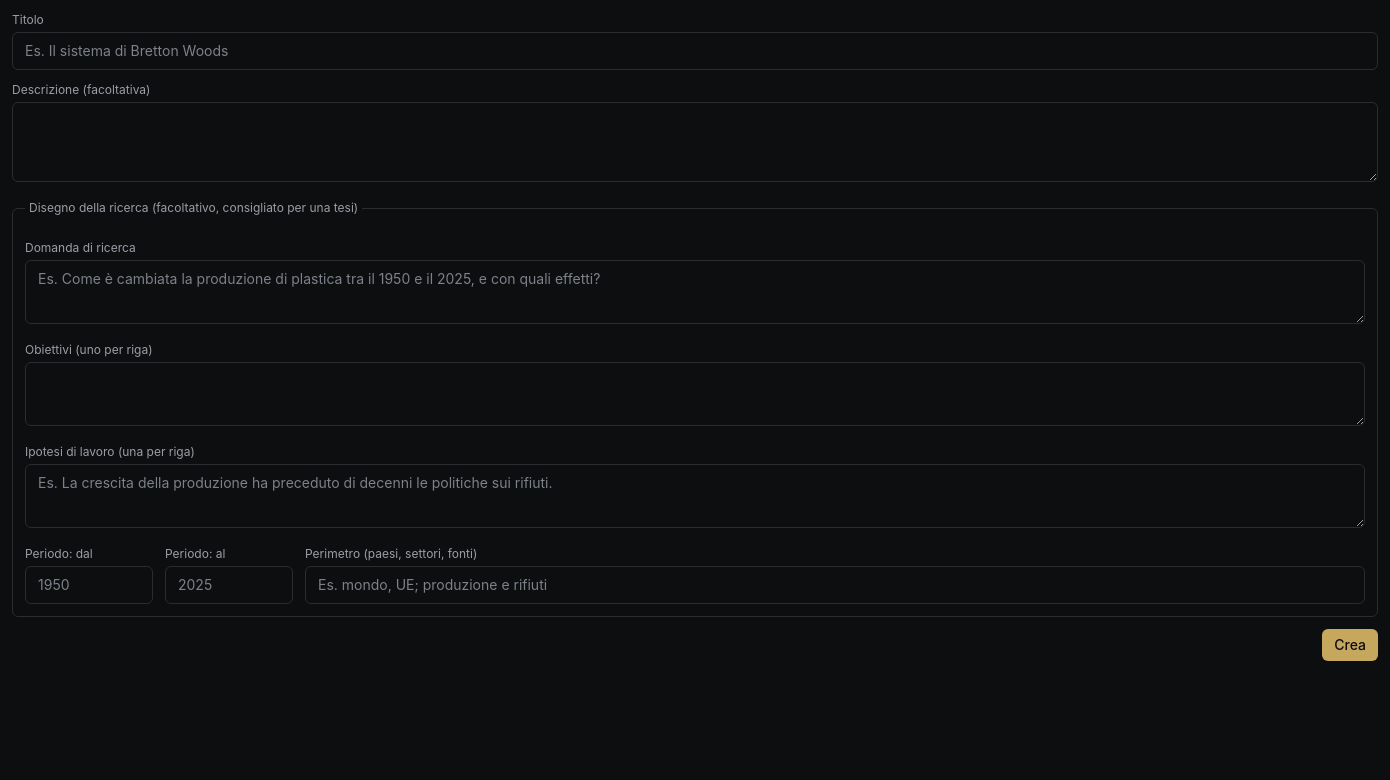
ProjectForm › shows backend validation errors
Type "X" into the field labelled "Titolo" at (695, 51), box [12,32,1378,70]
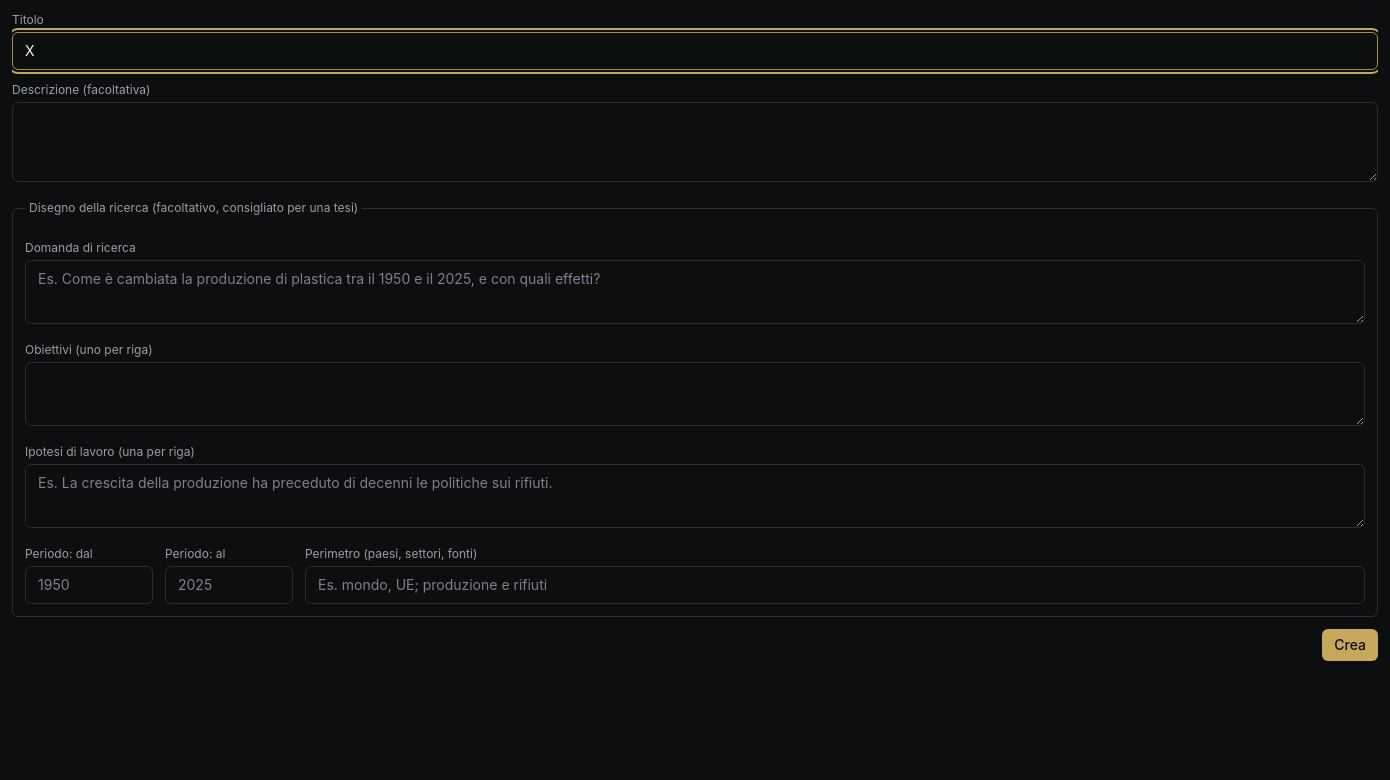
Click the button "Crea" at (1350, 645), box [1322,629,1378,661]
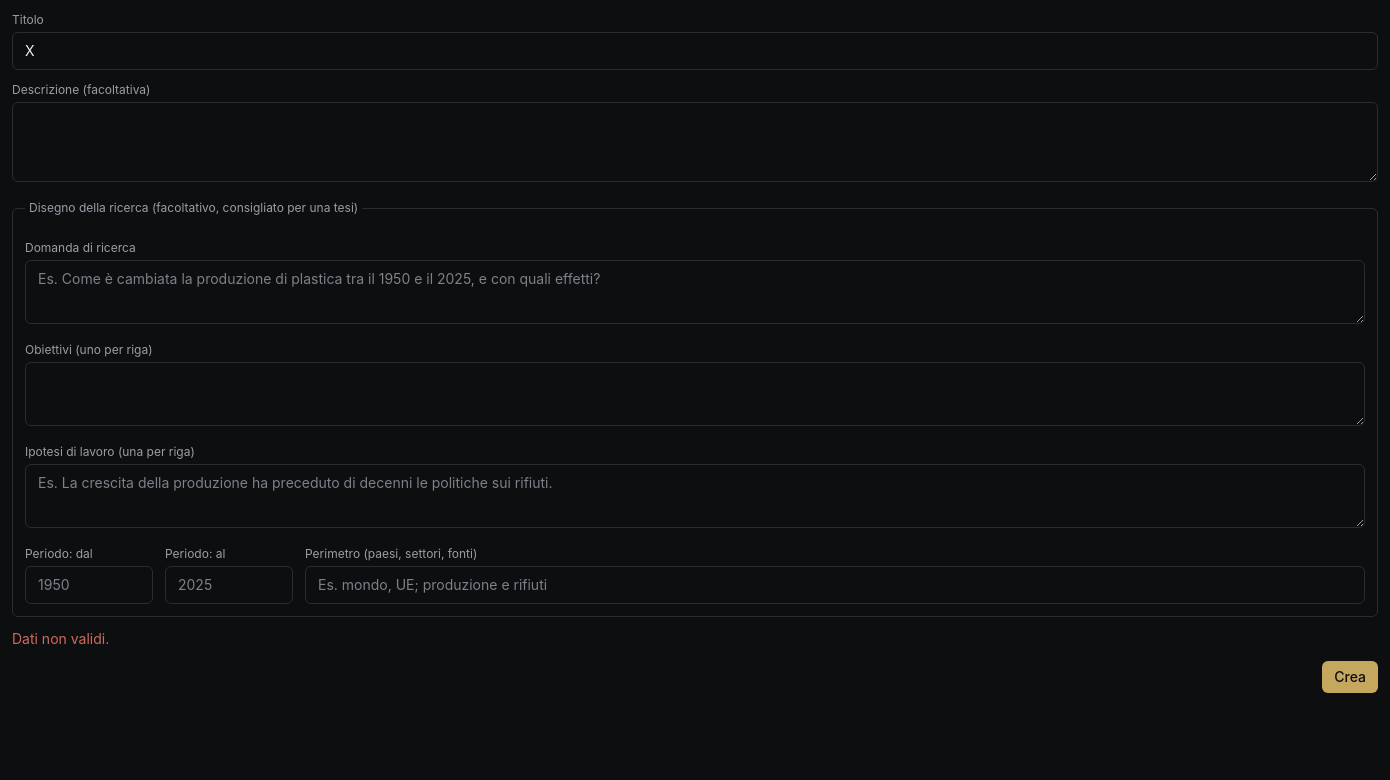
expect the message reads "Dati non validi.": met, box [12,630,109,647]
